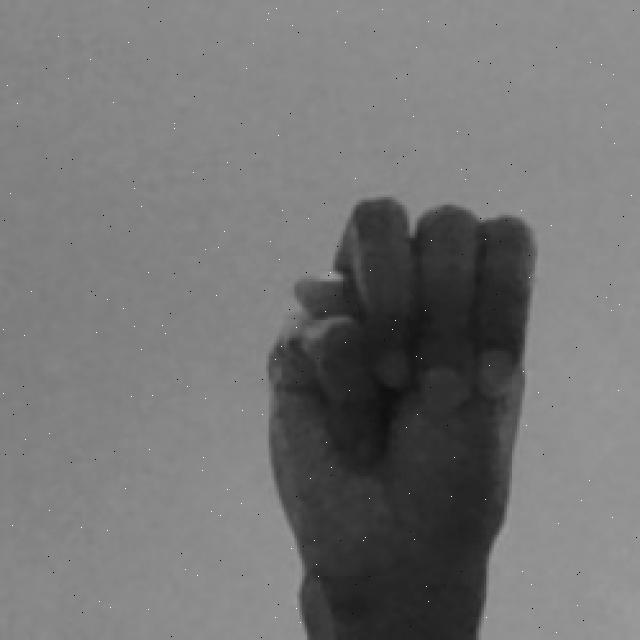M: (261, 188, 549, 640)
